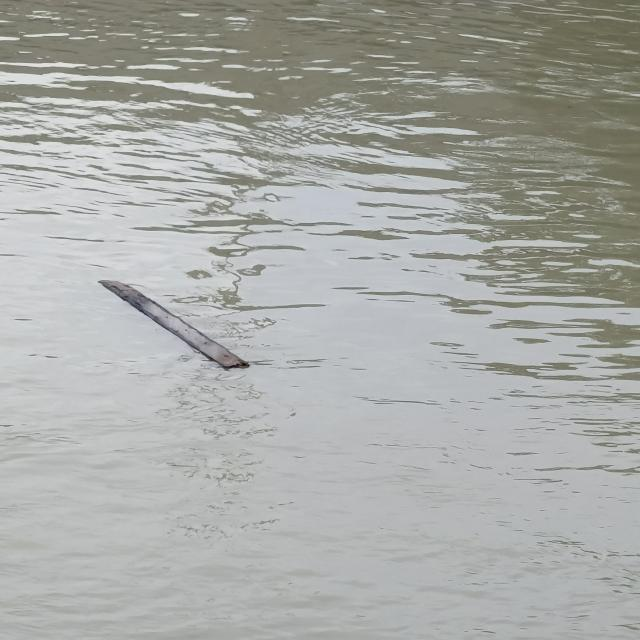Organic Debris: (93, 278, 256, 377)
